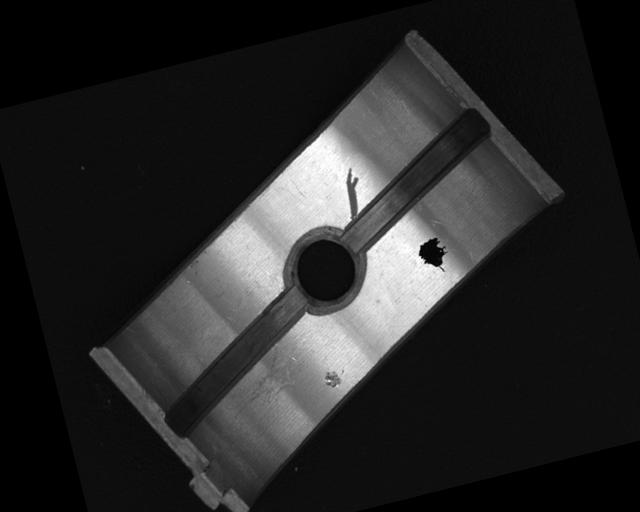blot: (414, 234, 453, 278)
bruise: (321, 366, 348, 391)
gap: (141, 285, 331, 441), (325, 108, 508, 252)
hole: (277, 221, 374, 317)
nick: (338, 165, 368, 219)
scratch: (217, 340, 306, 421)
